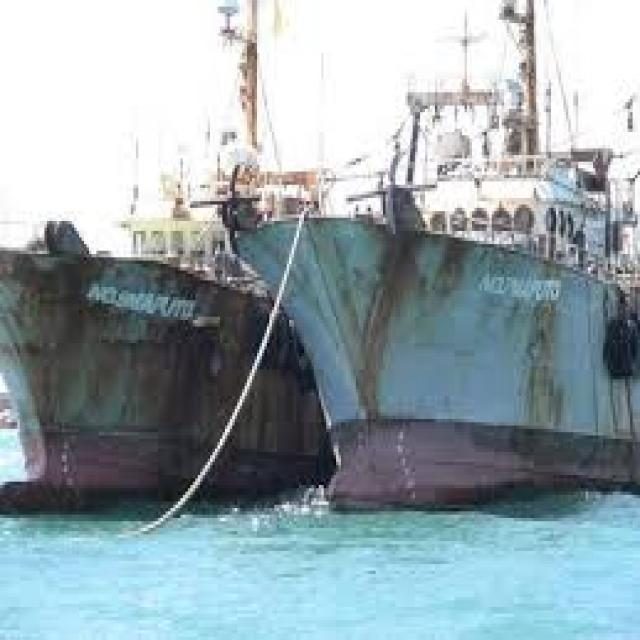Ship: (213, 20, 640, 522), (1, 8, 340, 526)
